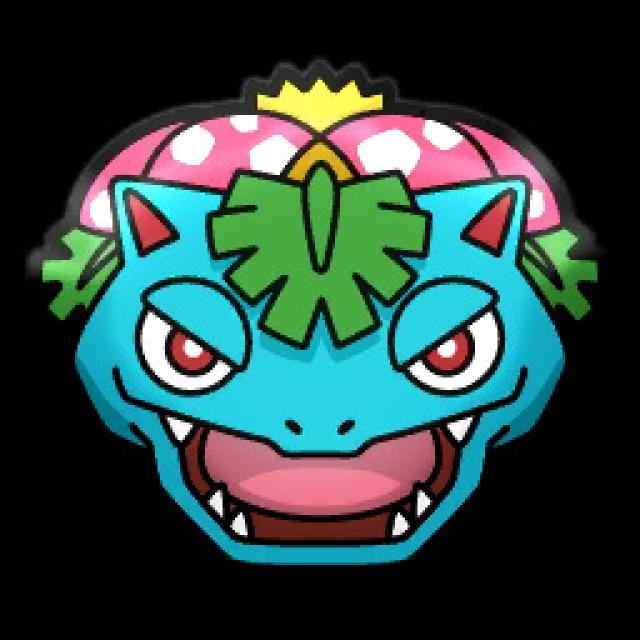Venusaur: (49, 66, 578, 574)
